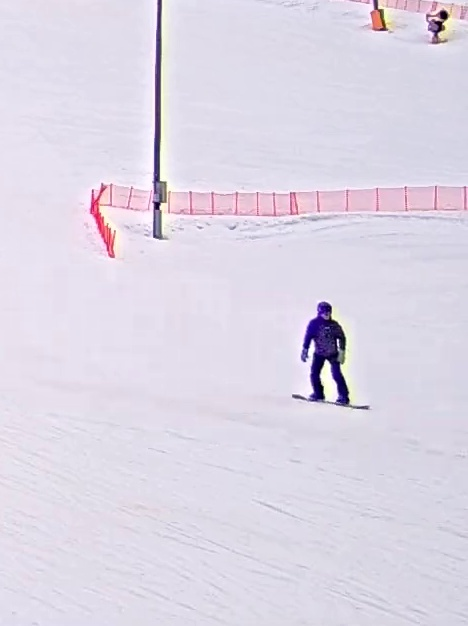snowboarder: (292, 300, 374, 414)
